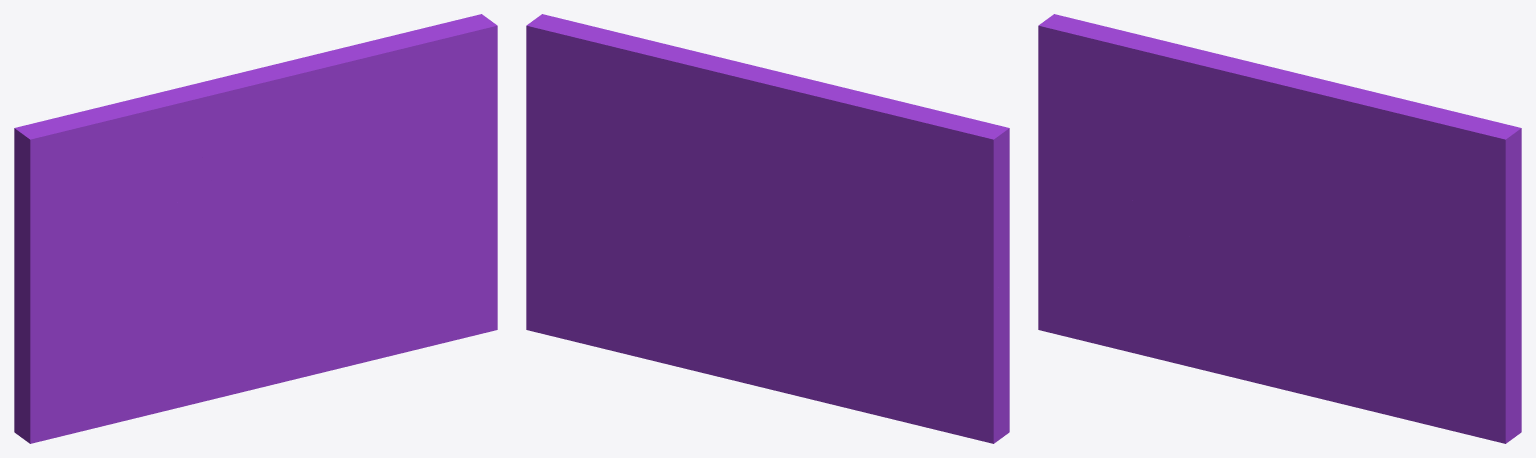
The model's file is Barrier_97_chunks.fbx.
The picture shows the model from 3 angles, left to right: view 1: azimuth 30°, elevation 25°; view 2: azimuth 150°, elevation 25°; view 3: azimuth 330°, elevation 25°; orthographic projection.
Parts seen in each view (by area): view 1: Barrier_97_0, Barrier_97_8, Barrier_97_2, Barrier_97_7, Barrier_97_5, Barrier_97_4, Barrier_97_3, Barrier_97_9, Barrier_97_6; view 2: Barrier_97_0, Barrier_97_2, Barrier_97_5, Barrier_97_8, Barrier_97_6, Barrier_97_7, Barrier_97_9, Barrier_97_3, Barrier_97_1, Barrier_97_4; view 3: Barrier_97_0, Barrier_97_8, Barrier_97_2, Barrier_97_7, Barrier_97_5, Barrier_97_4, Barrier_97_3, Barrier_97_9, Barrier_97_6.
Boxes of the visible parts, x1=… form: Barrier_97_0: x1=265, y1=14, x2=497, y2=365; Barrier_97_8: x1=14, y1=256, x2=188, y2=443; Barrier_97_2: x1=14, y1=104, x2=163, y2=291; Barrier_97_7: x1=156, y1=286, x2=349, y2=412; Barrier_97_5: x1=137, y1=51, x2=349, y2=180; Barrier_97_4: x1=64, y1=98, x2=205, y2=212; Barrier_97_3: x1=137, y1=173, x2=294, y2=265; Barrier_97_9: x1=176, y1=235, x2=297, y2=304; Barrier_97_6: x1=14, y1=361, x2=159, y2=435; Barrier_97_0: x1=526, y1=14, x2=744, y2=366; Barrier_97_2: x1=837, y1=115, x2=1009, y2=291; Barrier_97_5: x1=677, y1=50, x2=871, y2=195; Barrier_97_8: x1=850, y1=259, x2=1009, y2=440; Barrier_97_6: x1=811, y1=310, x2=997, y2=443; Barrier_97_7: x1=677, y1=306, x2=815, y2=399; Barrier_97_9: x1=715, y1=248, x2=862, y2=323; Barrier_97_3: x1=739, y1=188, x2=869, y2=260; Barrier_97_1: x1=743, y1=198, x2=816, y2=260; Barrier_97_4: x1=846, y1=88, x2=974, y2=135; Barrier_97_0: x1=1273, y1=91, x2=1521, y2=443; Barrier_97_8: x1=1038, y1=178, x2=1196, y2=339; Barrier_97_2: x1=1038, y1=14, x2=1171, y2=203; Barrier_97_7: x1=1164, y1=268, x2=1357, y2=407; Barrier_97_5: x1=1177, y1=44, x2=1370, y2=188; Barrier_97_4: x1=1072, y1=34, x2=1214, y2=164; Barrier_97_3: x1=1145, y1=153, x2=1302, y2=235; Barrier_97_9: x1=1184, y1=213, x2=1305, y2=302; Barrier_97_6: x1=1079, y1=308, x2=1167, y2=361.
Bounding box in the file's own units: 462 × 288 × 27.2.
